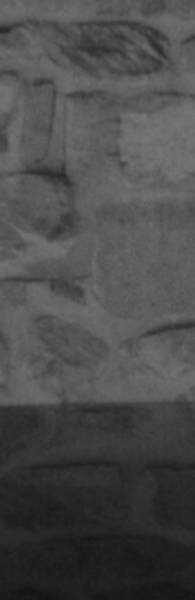water: (0, 404, 195, 600)
